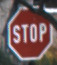stopsign: (7, 8, 53, 60)
